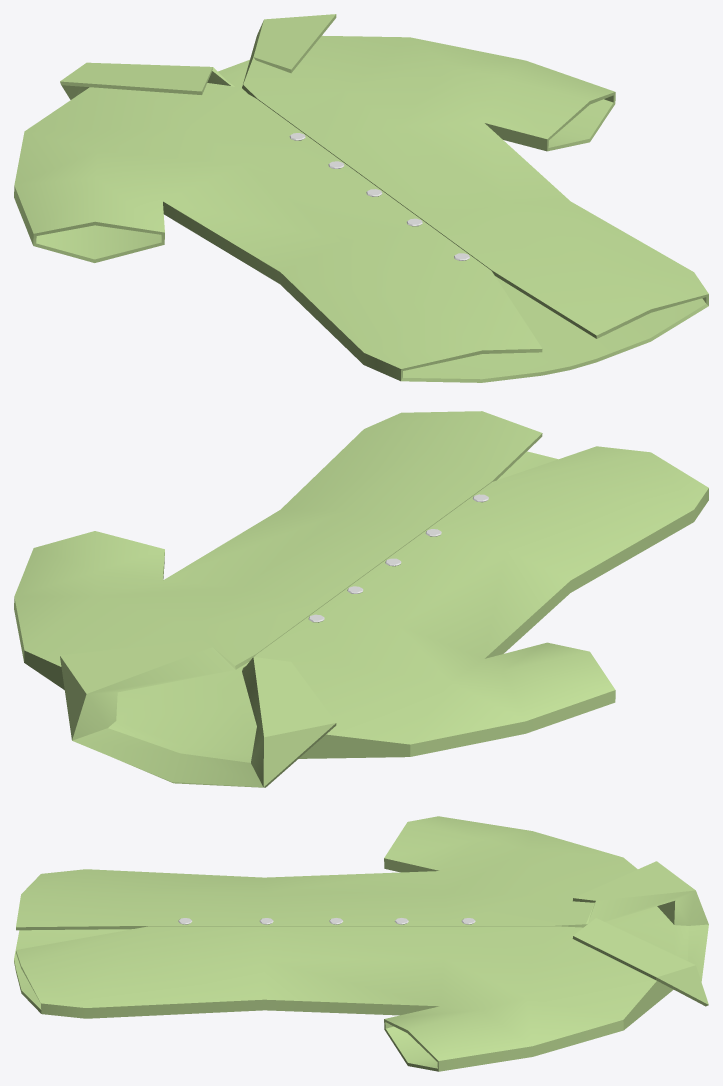
The model's file is shirt.fbx.
3 renders of one model, top to bottom at view 1: azimuth 30°, elevation 25°; view 2: azimuth 150°, elevation 25°; view 3: azimuth 270°, elevation 25°, orthographic. The views are drawn at different scales.
Parts seen in each view (by area): view 1: shirt; view 2: shirt; view 3: shirt.
Boxes of the visible parts, x1,y1,x2,y2 form: shirt: [14, 14, 708, 382]; shirt: [14, 411, 708, 787]; shirt: [14, 816, 708, 1071].
Size of the model in its own units: 167 by 24.02 by 200.
